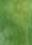Tomato mold leaf: (0, 5, 32, 40)
